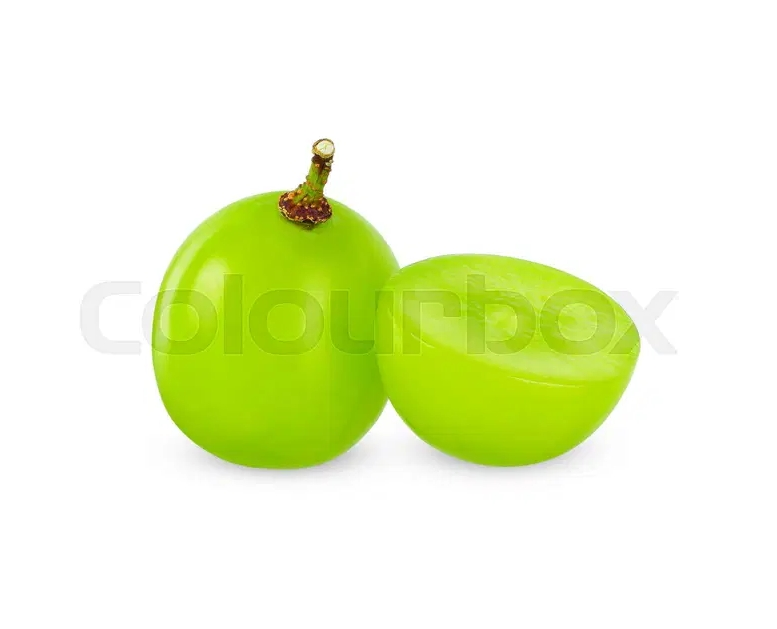grapes: (137, 131, 417, 505)
